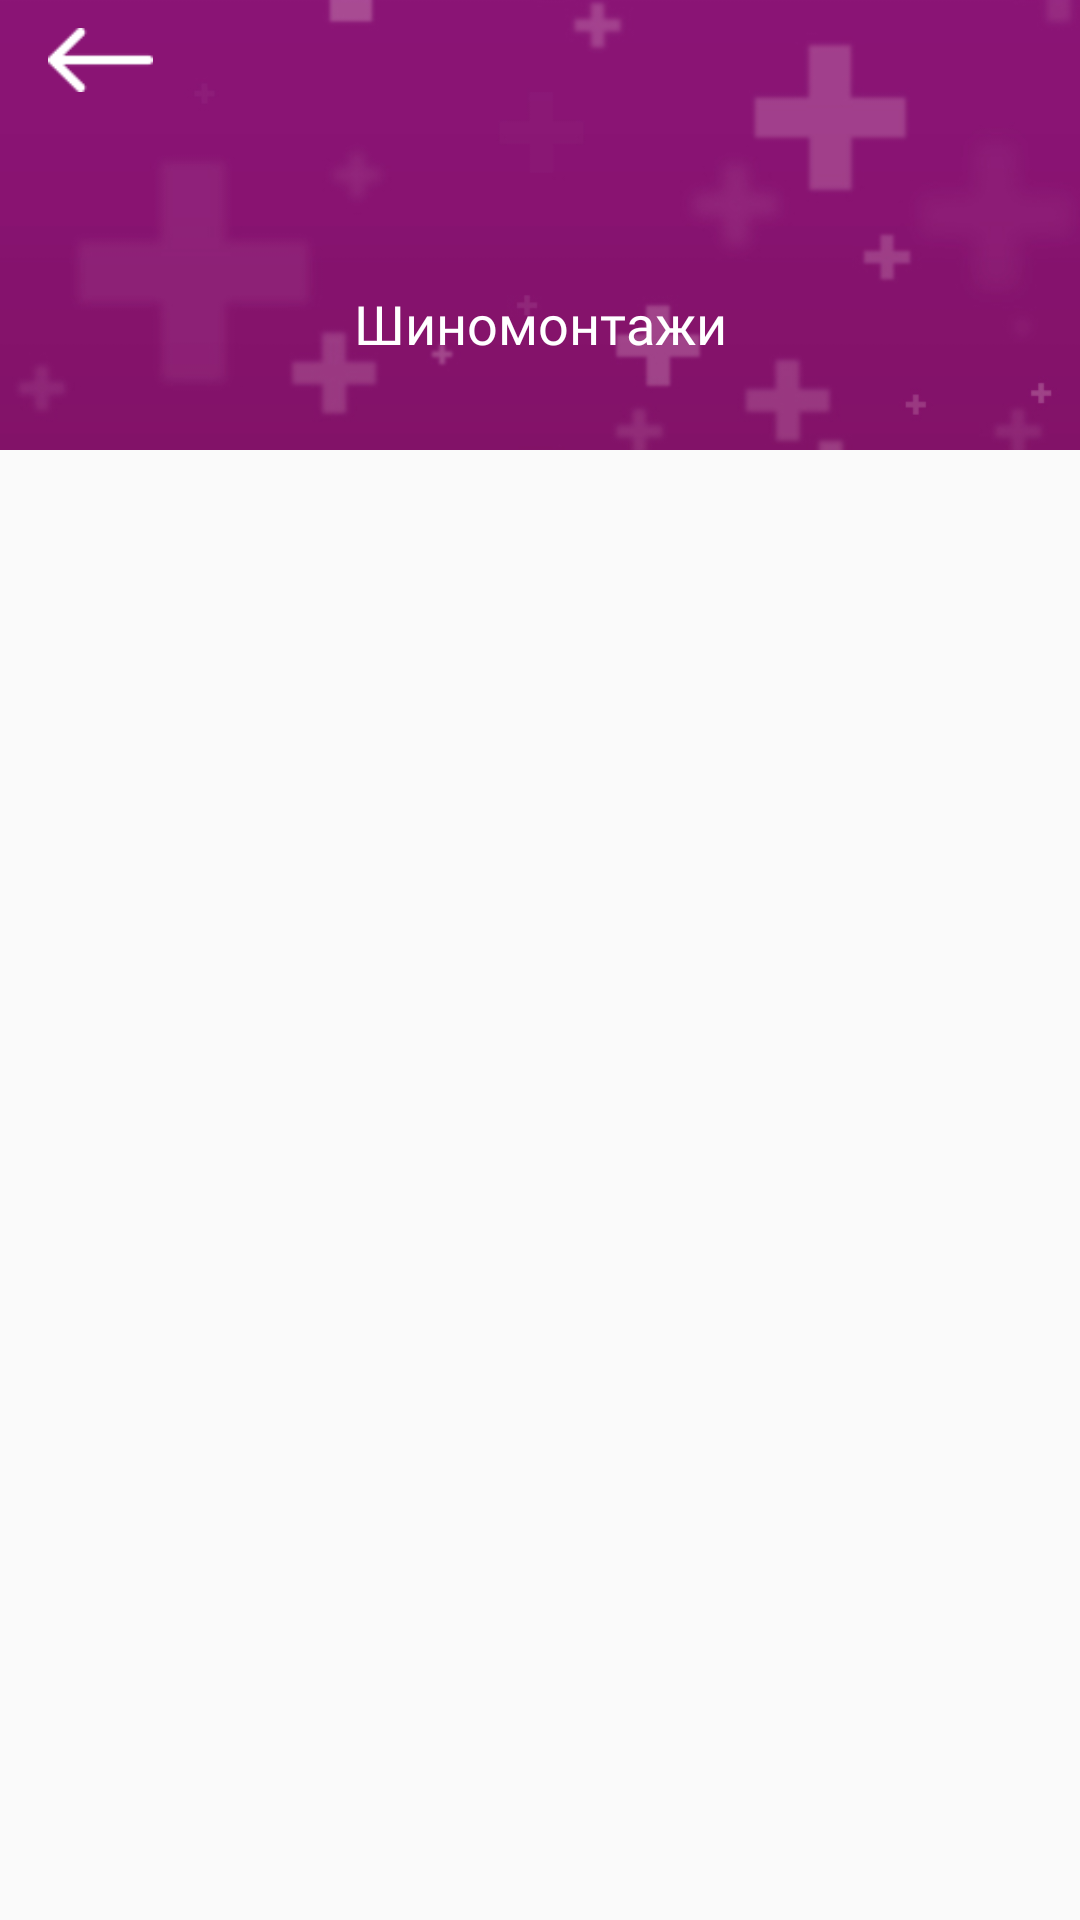

Icon bounding boxes for this 1080*1920 phone screenshot, format [x1=x1, y1=y1, x2=x2, y2=y2]:
arrow back: [x1=48, y1=28, x2=153, y2=92]
